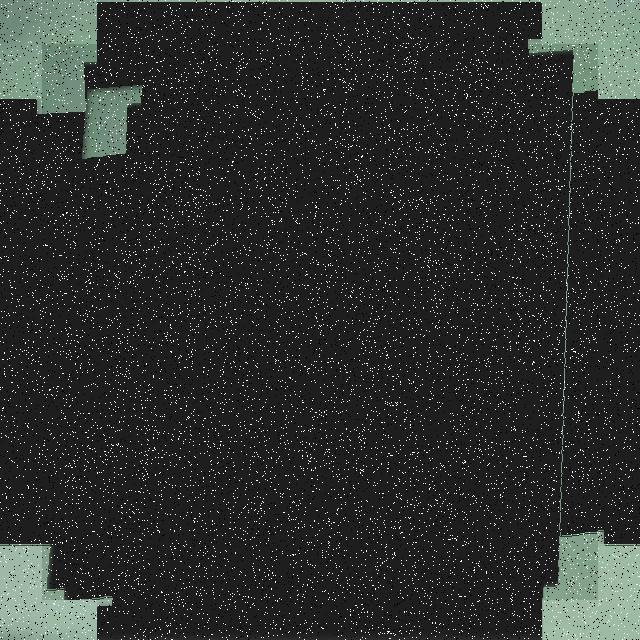dua ribu rupiah: (42, 44, 598, 600)
